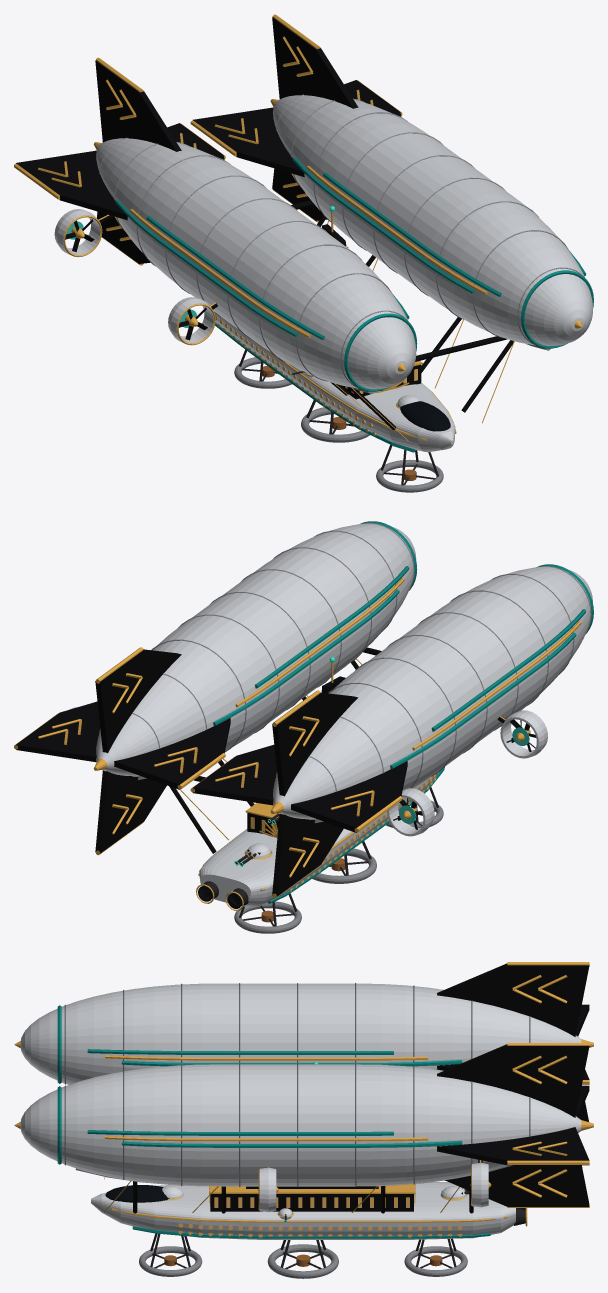
The model's file is cruiser.obj.
3 renders of one model, top to bottom at view 1: azimuth 30°, elevation 25°; view 2: azimuth 150°, elevation 25°; view 3: azimuth 270°, elevation 25°, orthographic. The views are drawn at different scales.
Parts seen in each view (by area): view 1: cruiser; view 2: cruiser; view 3: cruiser.
Boxes of the visible parts, x1=… form: cruiser: x1=14, y1=14, x2=593, y2=492; cruiser: x1=14, y1=521, x2=593, y2=933; cruiser: x1=14, y1=962, x2=593, y2=1278.
Bounding box in the file's own units: 557 × 399 × 800.
1 material, 1 textured.
